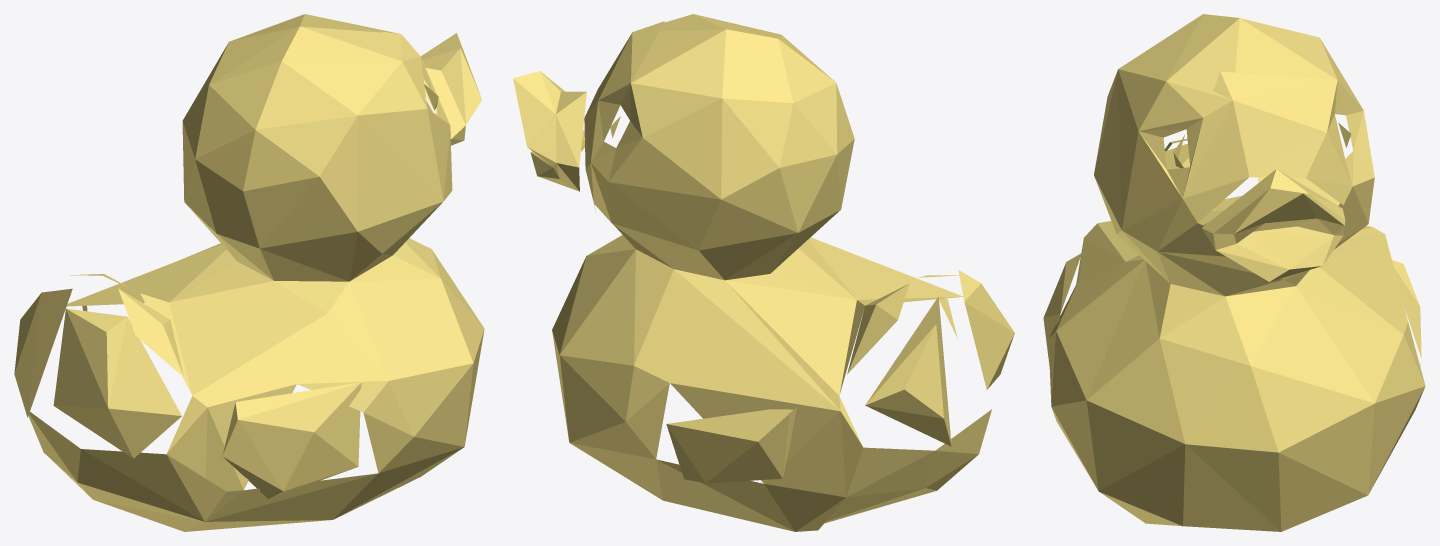
File: duck.gltf
3 views of the same model, side by side, from view 1: azimuth 30°, elevation 25°; view 2: azimuth 150°, elevation 25°; view 3: azimuth 270°, elevation 25° (orthographic). The views are drawn at different scales.
Visible parts, largest first — view 1: node; view 2: node; view 3: node.
Boxes of the visible parts, <box> form: node: <box>14,14,484,531</box>; node: <box>513,14,1014,531</box>; node: <box>1043,14,1425,531</box>.
Bounding box in the file's own units: 1.64 × 1.55 × 1.15.
